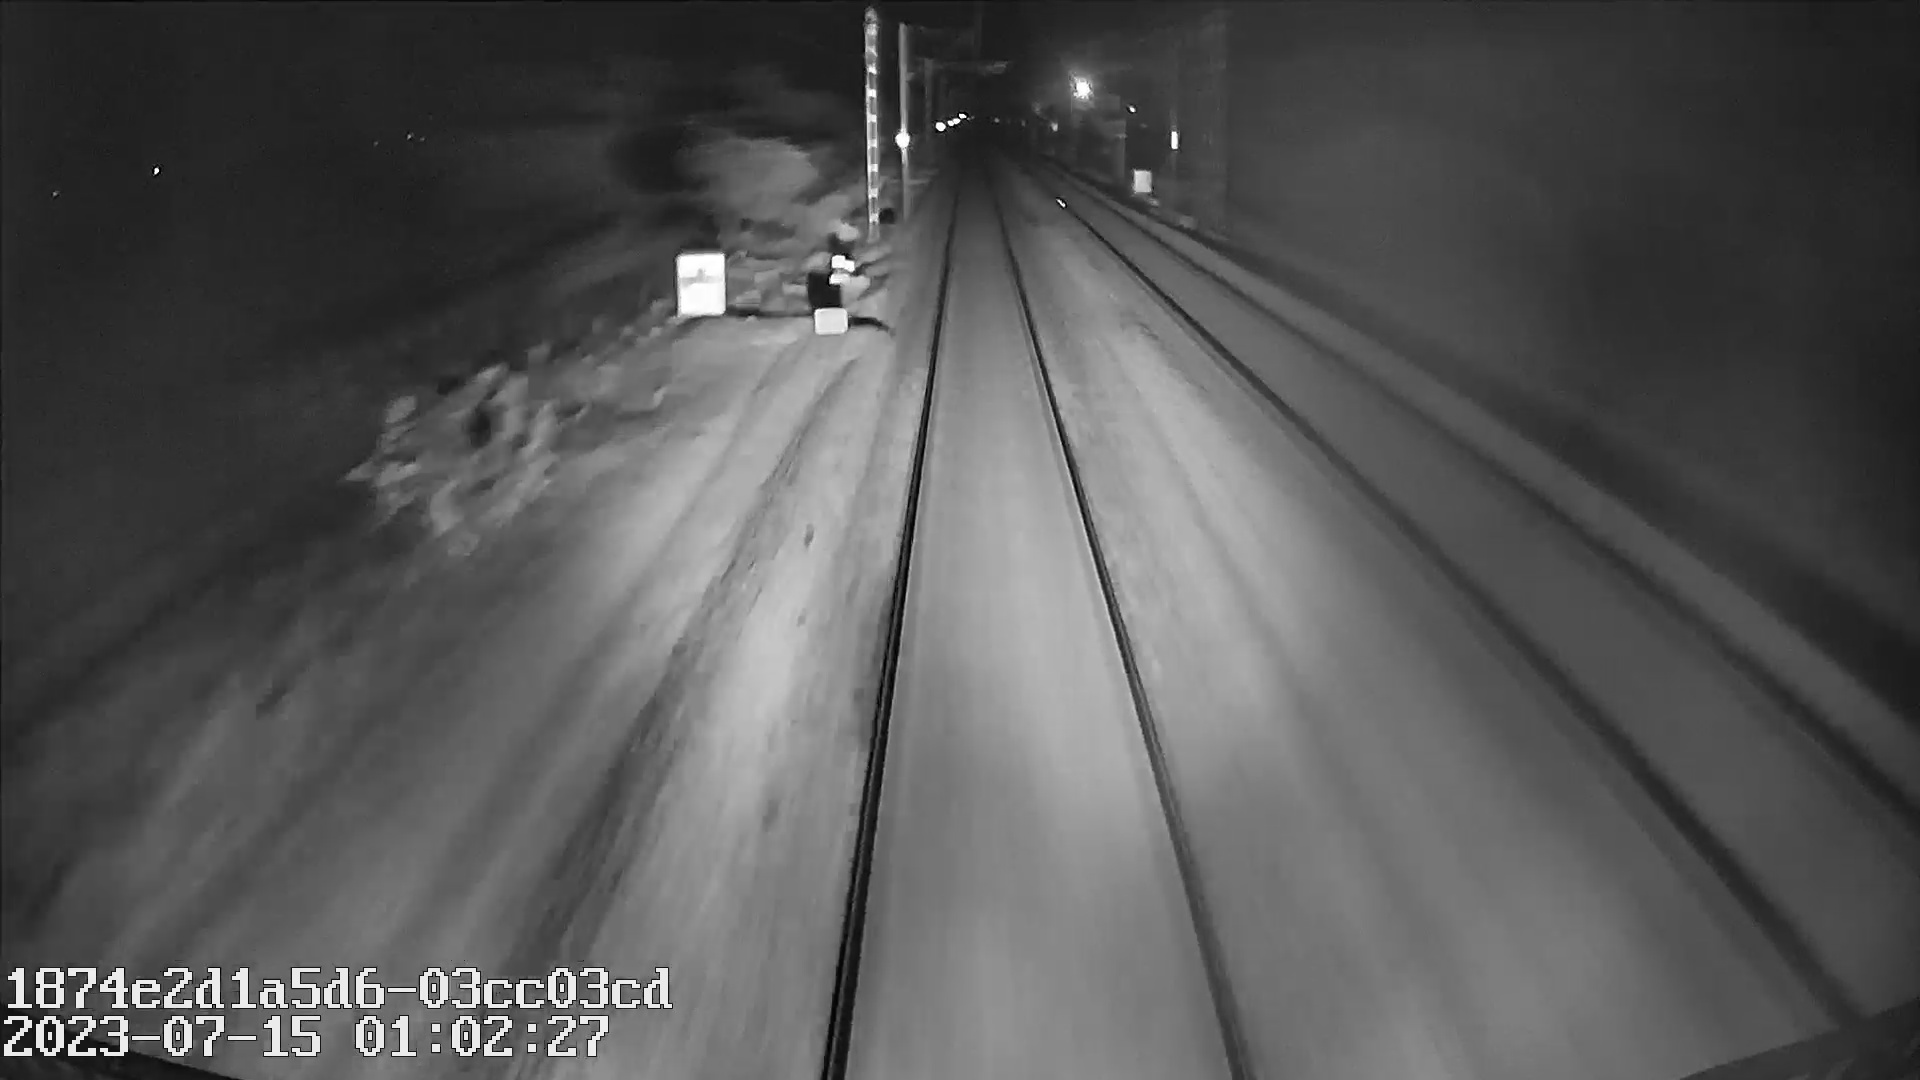track1: (841, 175, 1245, 1060)
track2: (1056, 200, 1902, 989)
